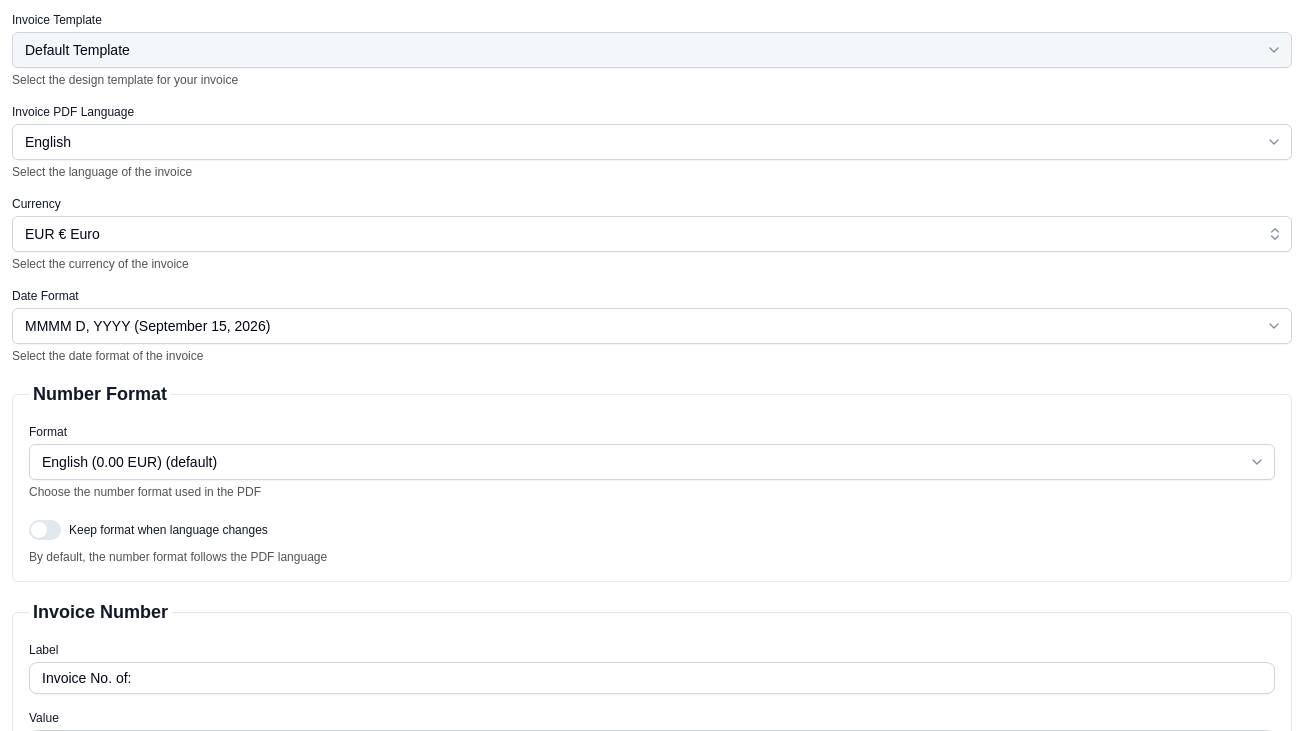
Test: GeneralInformation date helper texts › "Keep format when language changes" switch › says under the switch whether the format follows the language
Expected: the text "By default, the number format follows the PDF language" is shown, 29,550 -> 327,564
Step 1. Click the switch with test id "preserveNumberFormatOnLanguageChange" → (45, 530), box 29,520 -> 61,540
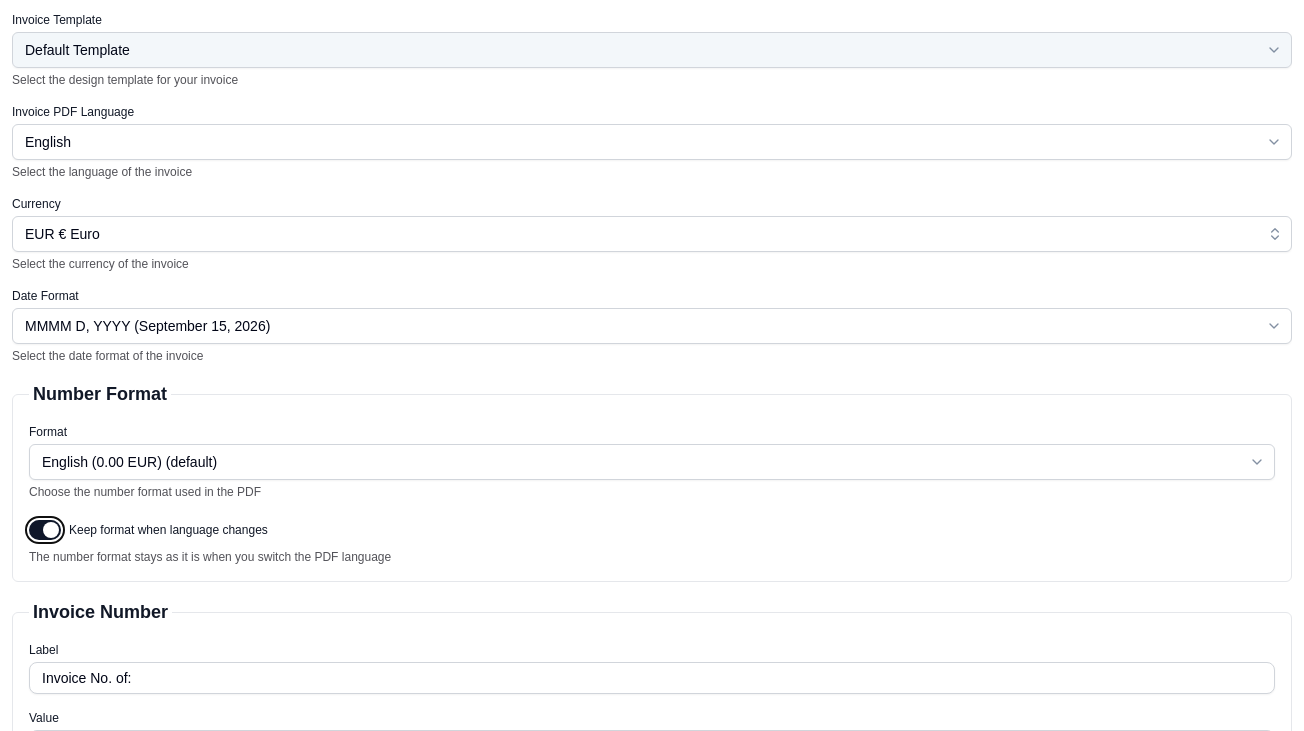
Expected: the text "The number format stays as it is when you switch the PDF language" is shown, 29,550 -> 391,564
